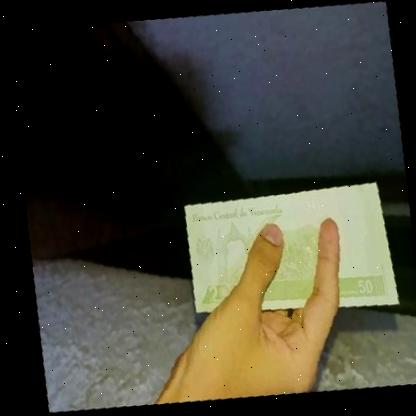fifty-back-vef: (171, 173, 398, 337)
